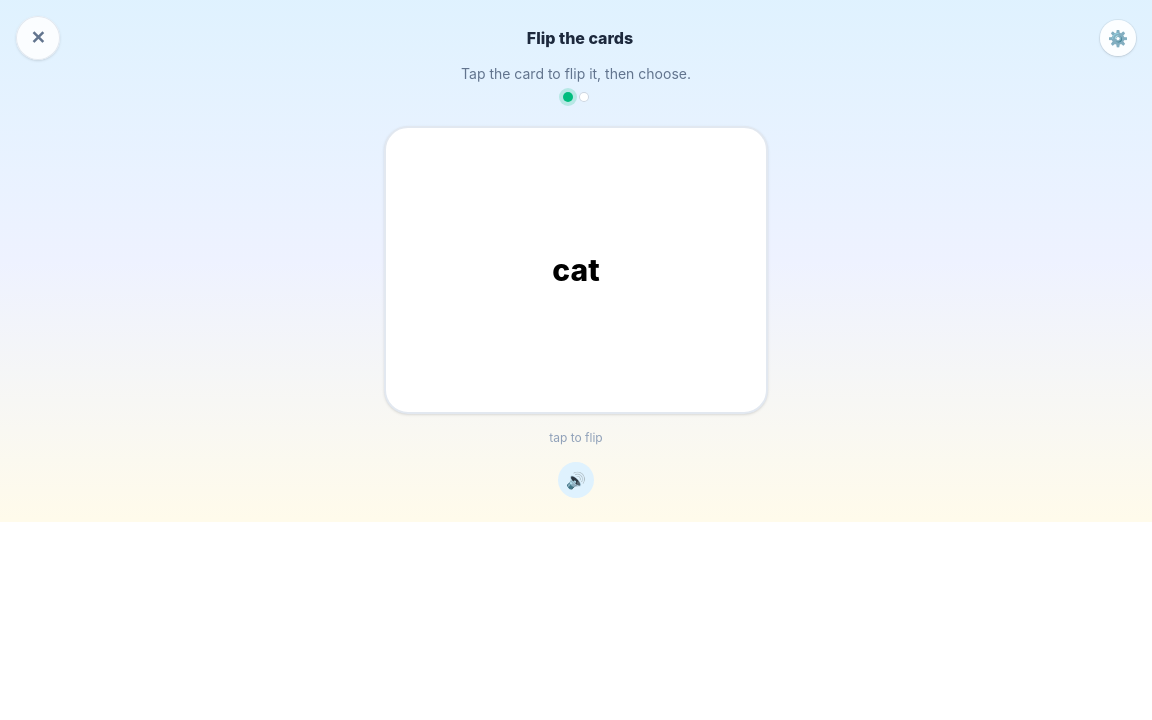
FlashcardScreen › Again re-queues the front card to the back
Click the button with aria-label "flip".
click(576, 270)  # box [384,126,768,414]
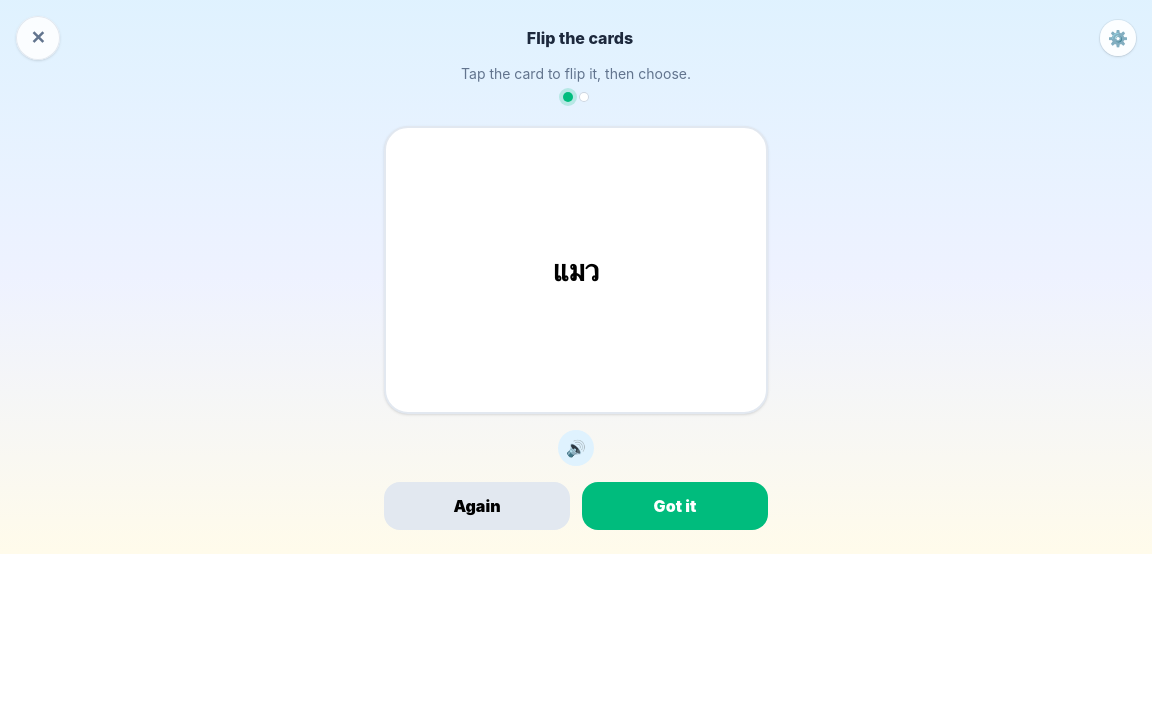
Click the button "Again".
click(477, 506)  # box [384,482,570,530]
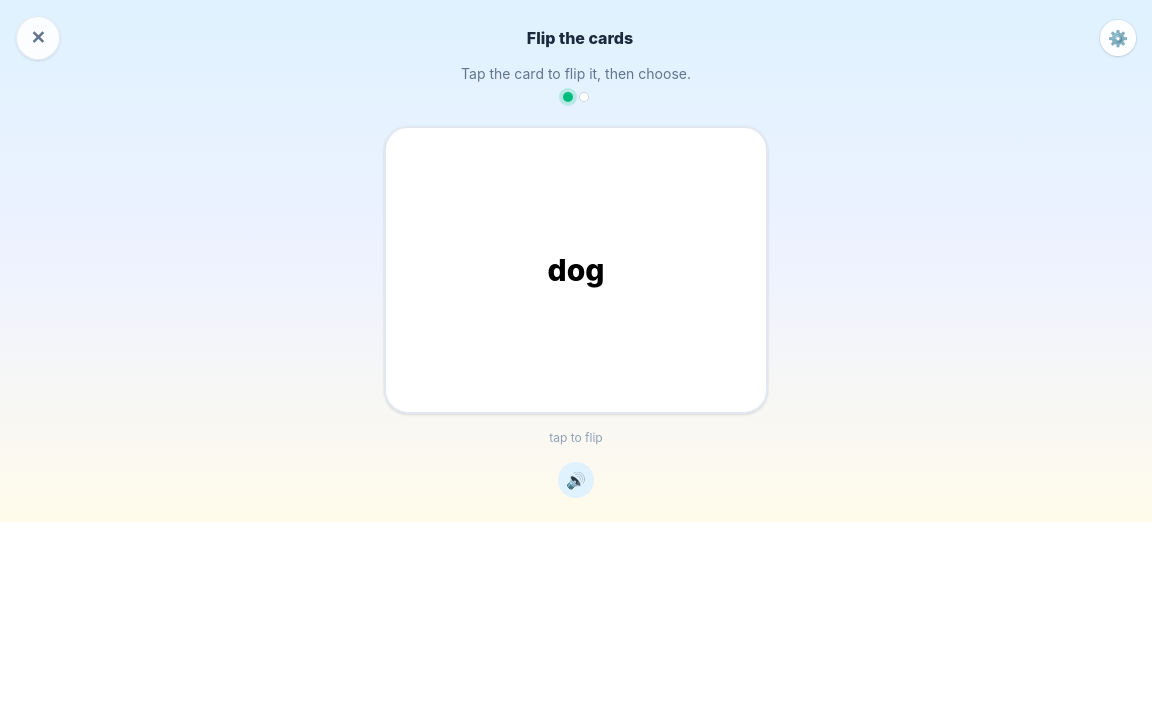
Expected: the button "dog" is shown
Click the button with aria-label "flip".
click(576, 270)  # box [384,126,768,414]
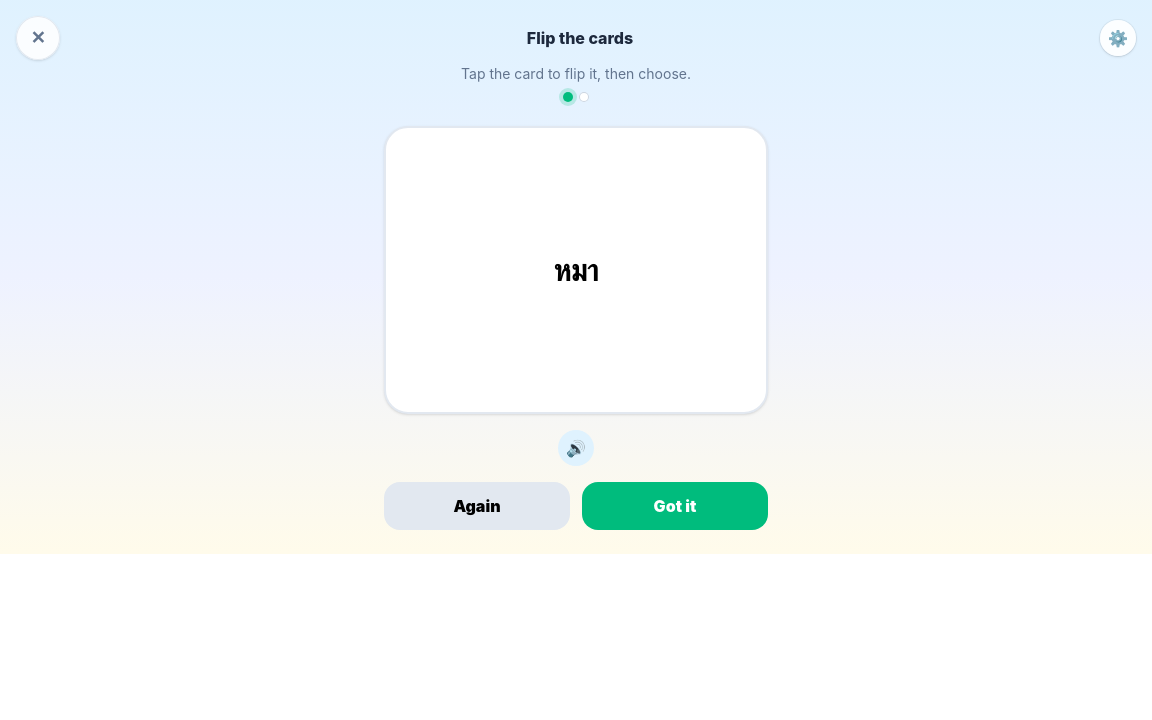
Click the button "Got it".
click(675, 506)  # box [582,482,768,530]
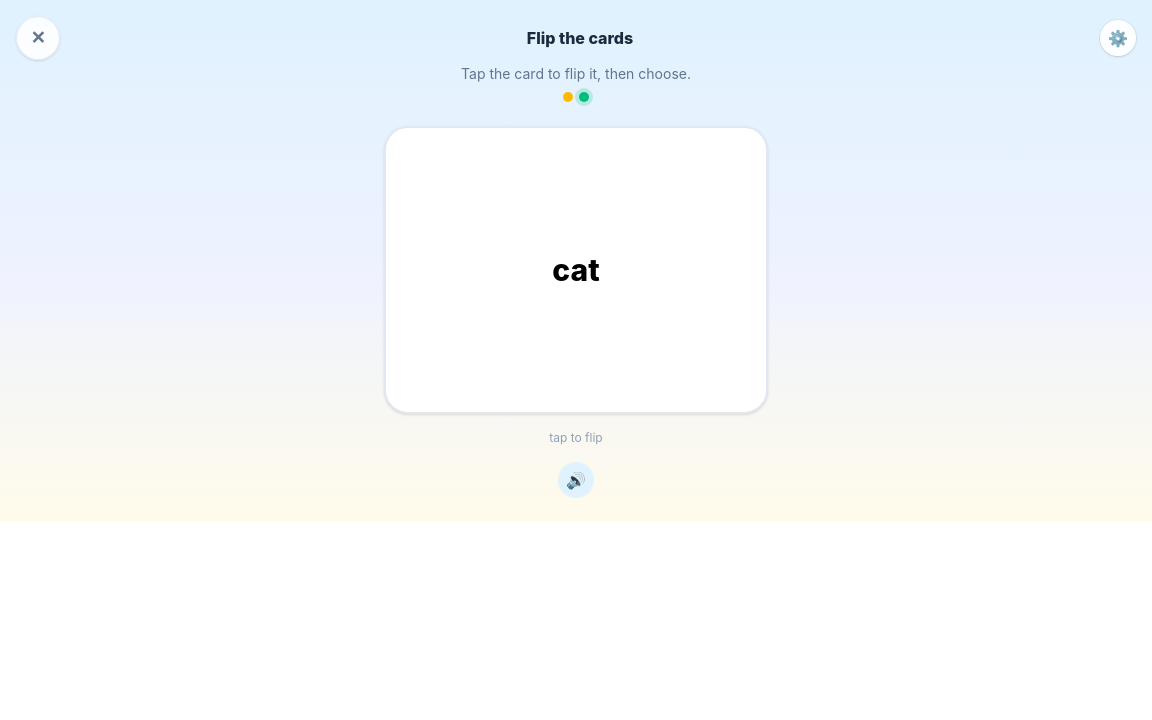
Expected: the button "cat" is shown, [384,126,768,414]
